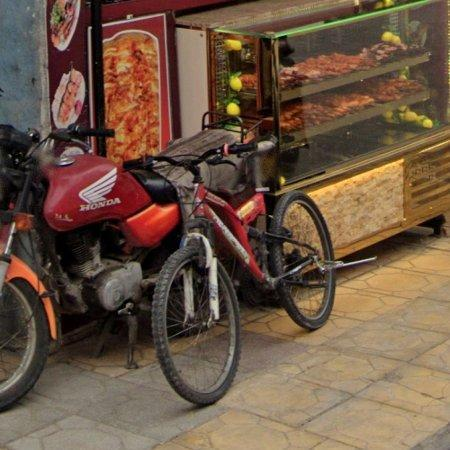bicycles: (152, 142, 347, 406)
motorcycles: (0, 125, 193, 410)
